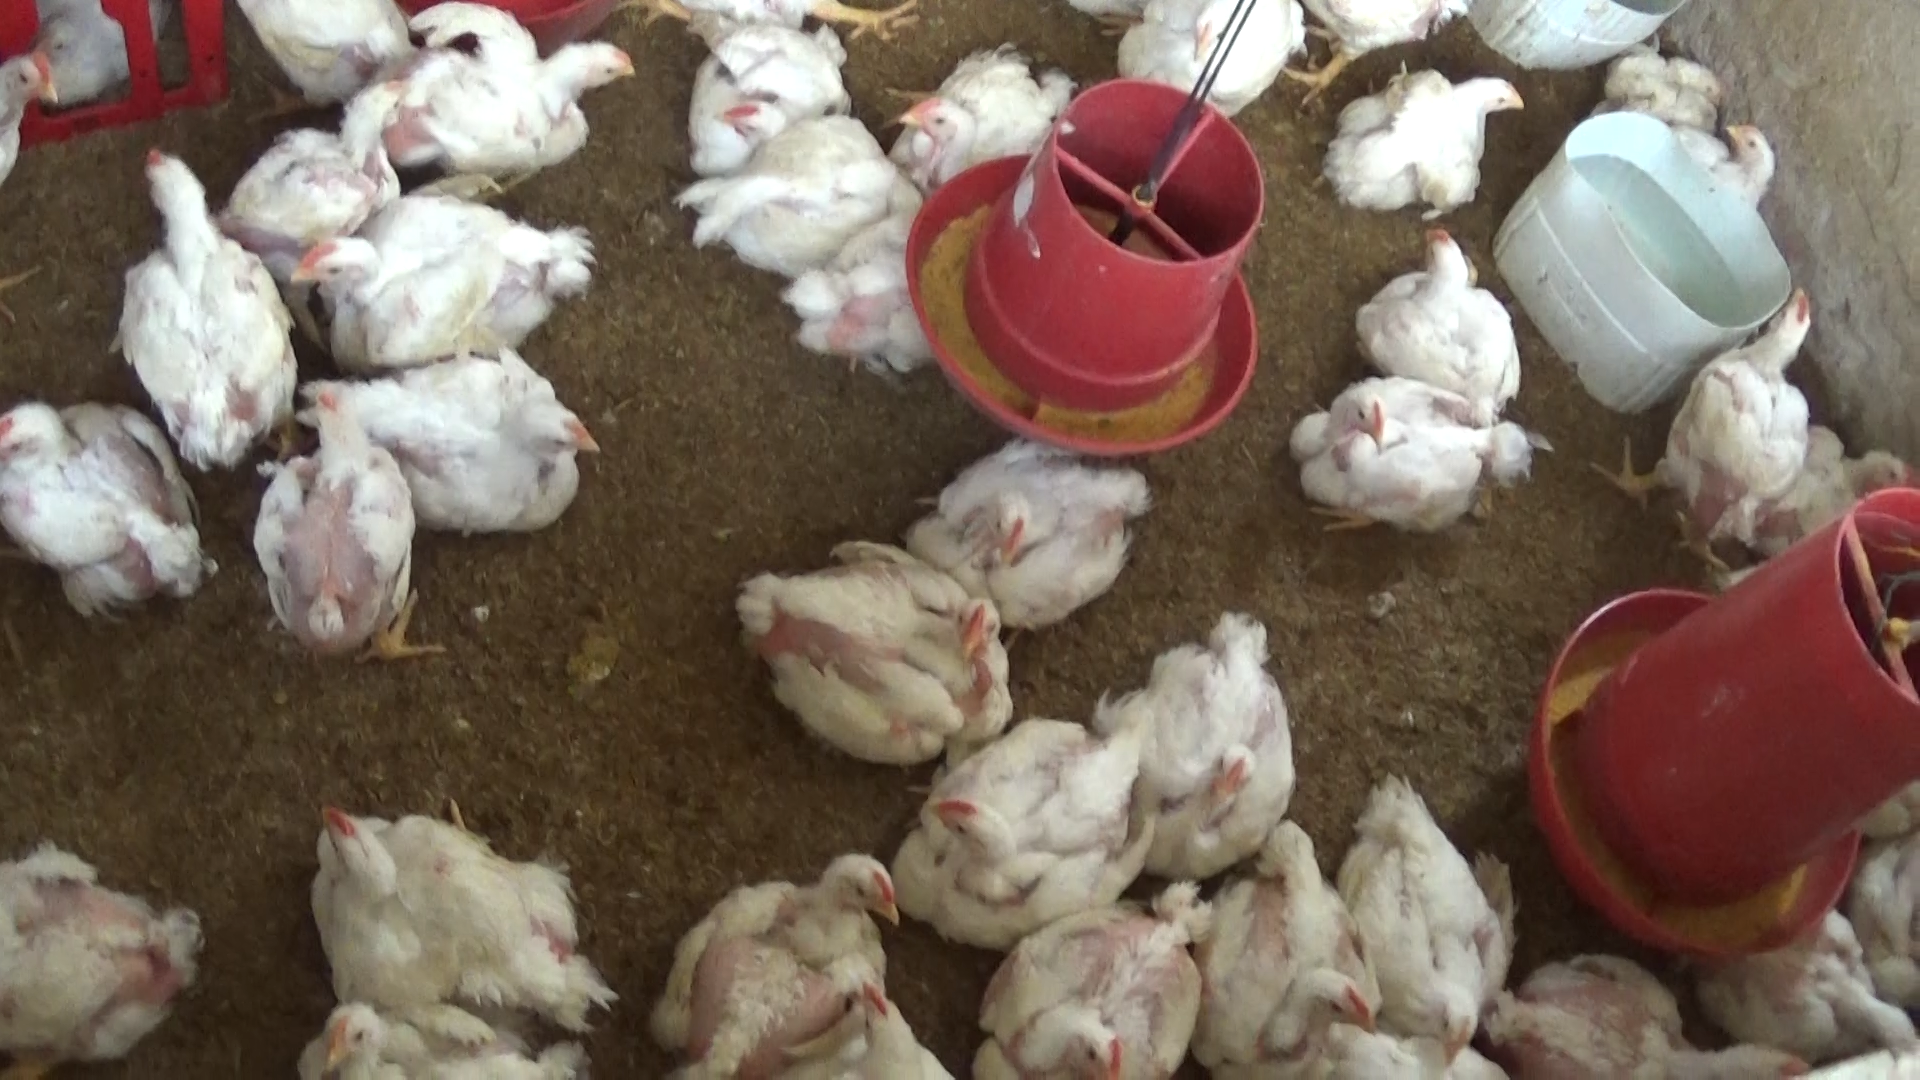Pollos: (735, 533, 1010, 778), (109, 144, 309, 472), (1594, 277, 1840, 541), (305, 803, 605, 1011), (653, 847, 911, 1080), (895, 721, 1160, 943), (0, 386, 233, 628), (1101, 599, 1298, 882), (309, 191, 593, 382), (313, 359, 612, 538), (1193, 828, 1395, 1080), (258, 378, 426, 680), (0, 825, 206, 1065), (967, 889, 1222, 1080), (924, 447, 1164, 637), (375, 0, 628, 178), (1342, 762, 1495, 1052), (1296, 361, 1538, 538), (236, 58, 419, 273), (1300, 61, 1542, 216), (1360, 214, 1528, 415), (696, 88, 899, 255), (786, 194, 942, 368), (262, 997, 587, 1080), (906, 28, 1069, 182), (1098, 0, 1300, 98), (0, 33, 55, 223), (1705, 113, 1793, 204)
